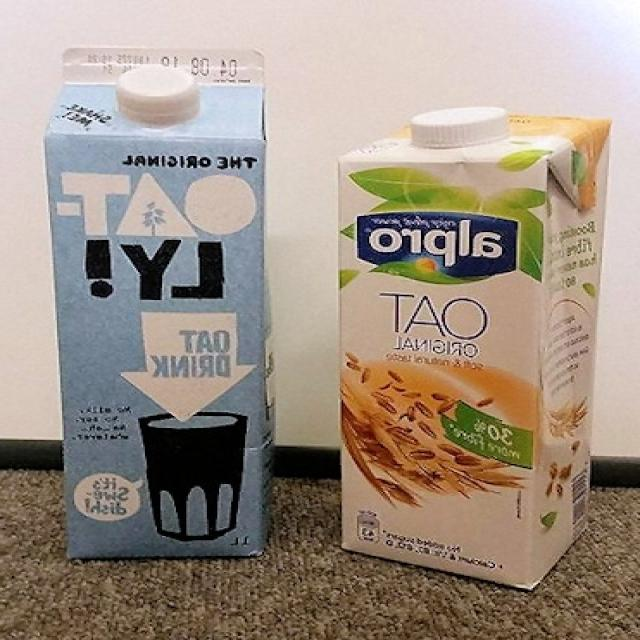cardboard: (332, 107, 611, 587), (43, 47, 280, 560)
